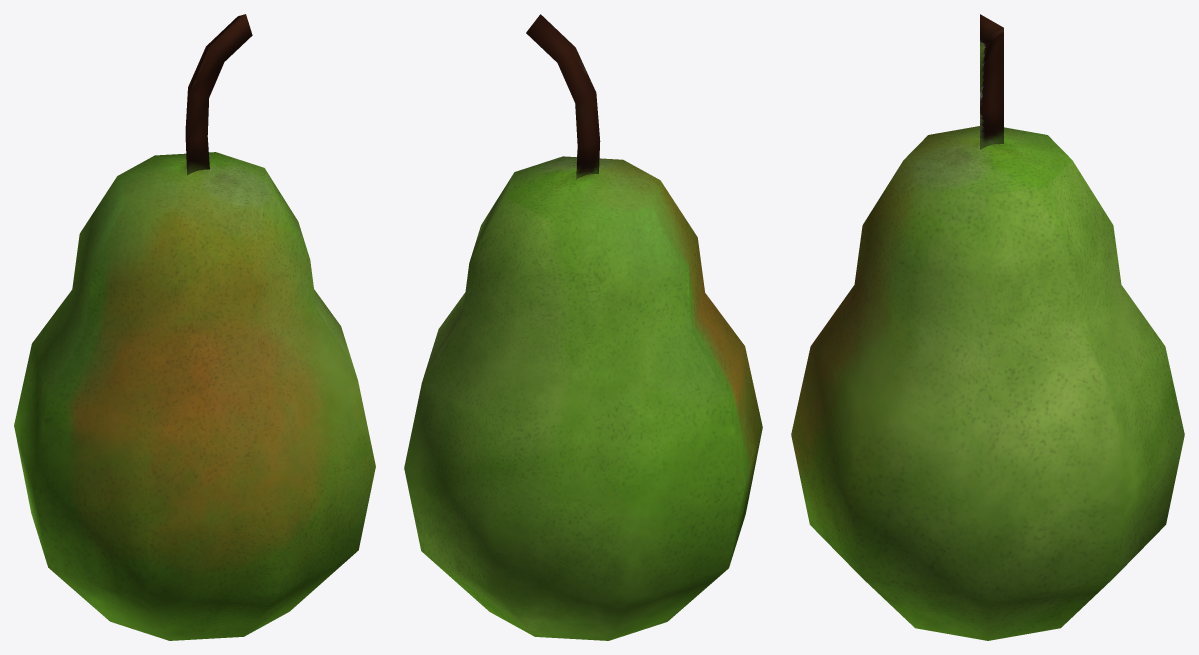
The model's file is pear.glb.
3 renders of one model, left to right at view 1: azimuth 30°, elevation 25°; view 2: azimuth 150°, elevation 25°; view 3: azimuth 270°, elevation 25°, orthographic. The views are drawn at different scales.
Visible parts, largest first — view 1: pear; view 2: pear; view 3: pear.
Boxes of the visible parts, x1,y1,x2,y2 form: pear: (14,14,375,640); pear: (404,14,762,640); pear: (791,14,1184,640).
Size of the model in its own units: 0.3659 by 0.6421 by 0.3659.
Materials: 1 (1 with a texture image).
